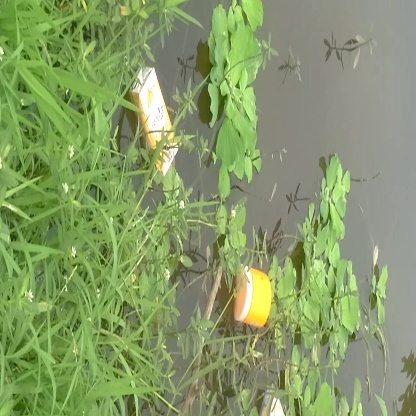bottle: (222, 253, 278, 331)
milk-box: (129, 59, 187, 174)
